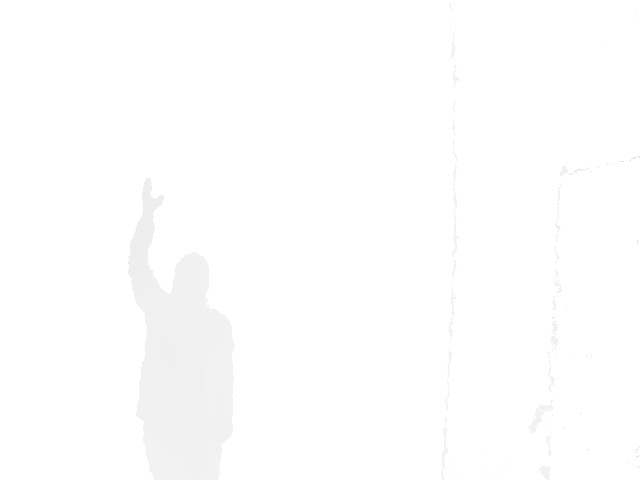hand: (140, 175, 165, 216)
head: (173, 252, 211, 298)
person: (126, 175, 236, 479)
